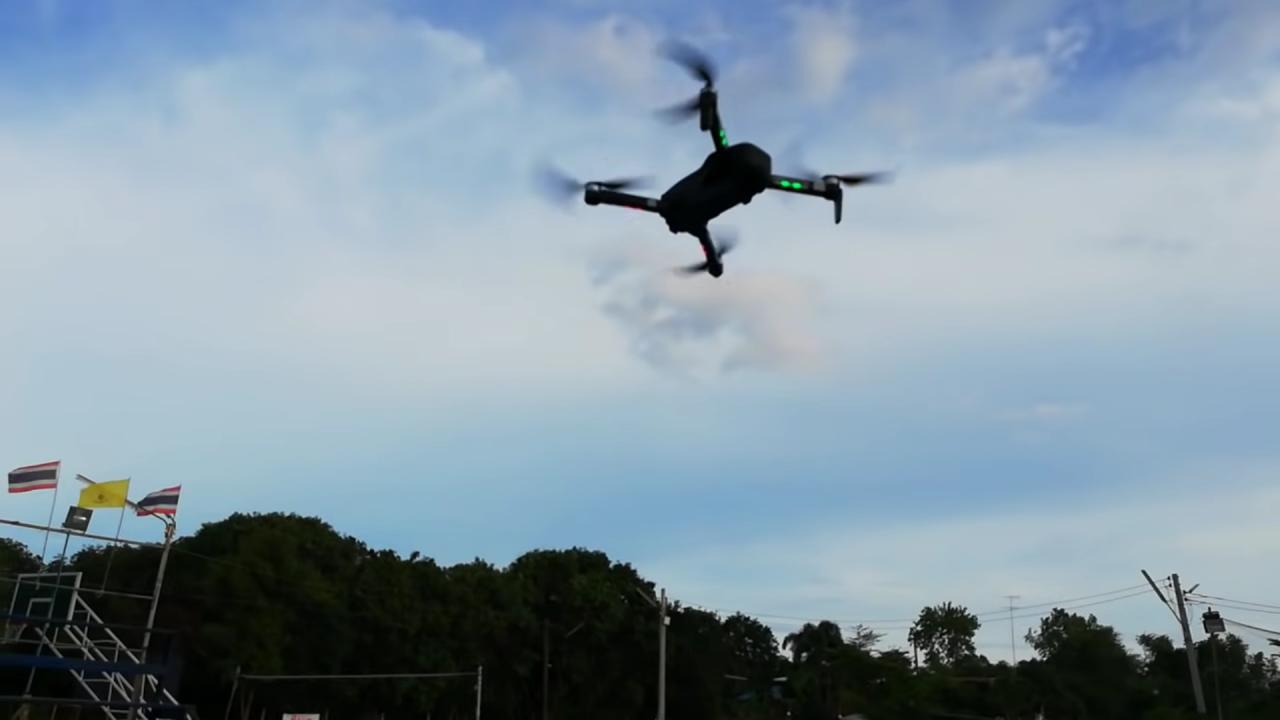Drone: (519, 28, 902, 290)
